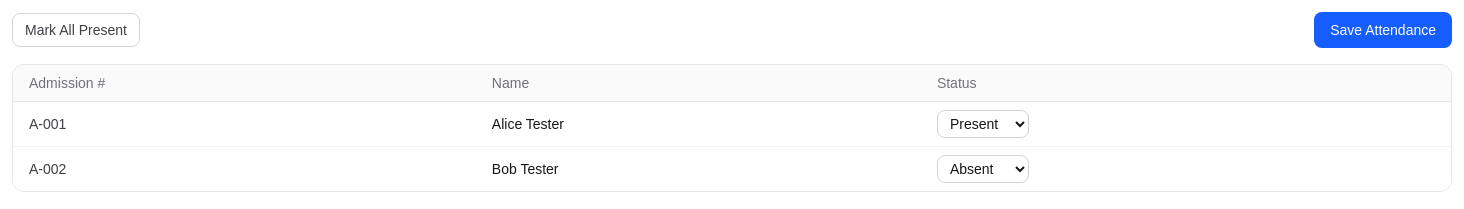
Scenario: BulkMarkAttendanceForm › marks every student present when 'Mark All Present' is clicked
The image size is (1464, 209).
What coordinates should you click on to do the following:
click the button "Mark All Present"
I would click on:
 (76, 30)
Its box is [12, 13, 140, 47].
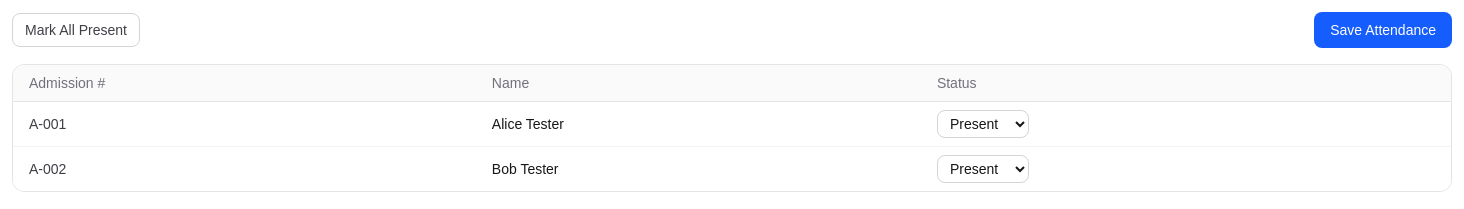
expect the dropdown in the row of "A-001" shows "Present": met, box [937, 110, 1029, 138]
expect the dropdown in the row of "A-002" shows "Present": met, box [937, 155, 1029, 183]
